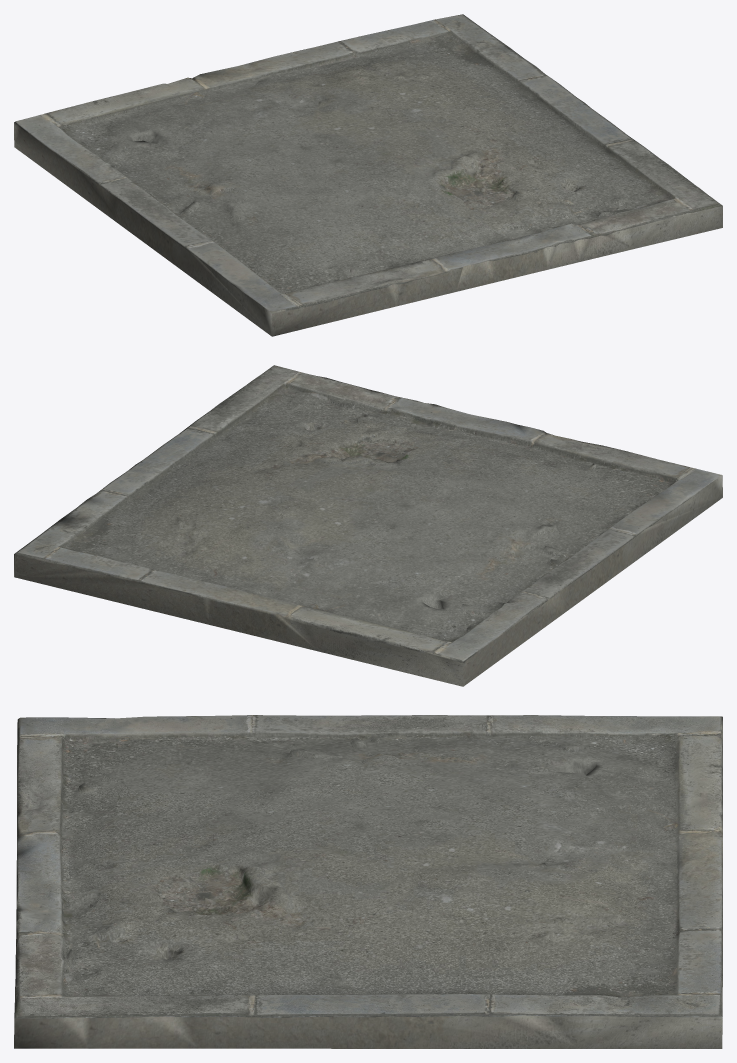
File: PX_Tree_Pit_02_LOD3.fbx
3 views of the same model, one above another, from view 1: azimuth 30°, elevation 25°; view 2: azimuth 150°, elevation 25°; view 3: azimuth 270°, elevation 25° (orthographic). The views are drawn at different scales.
Visible parts, largest first — view 1: PX_Tree_Pit_02_LOD3; view 2: PX_Tree_Pit_02_LOD3; view 3: PX_Tree_Pit_02_LOD3.
Boxes of the visible parts, <box> form: PX_Tree_Pit_02_LOD3: <box>14,14,722,336</box>; PX_Tree_Pit_02_LOD3: <box>14,365,722,686</box>; PX_Tree_Pit_02_LOD3: <box>14,715,722,1048</box>.
Size of the model in its own units: 99.74 by 8.61 by 99.85.
